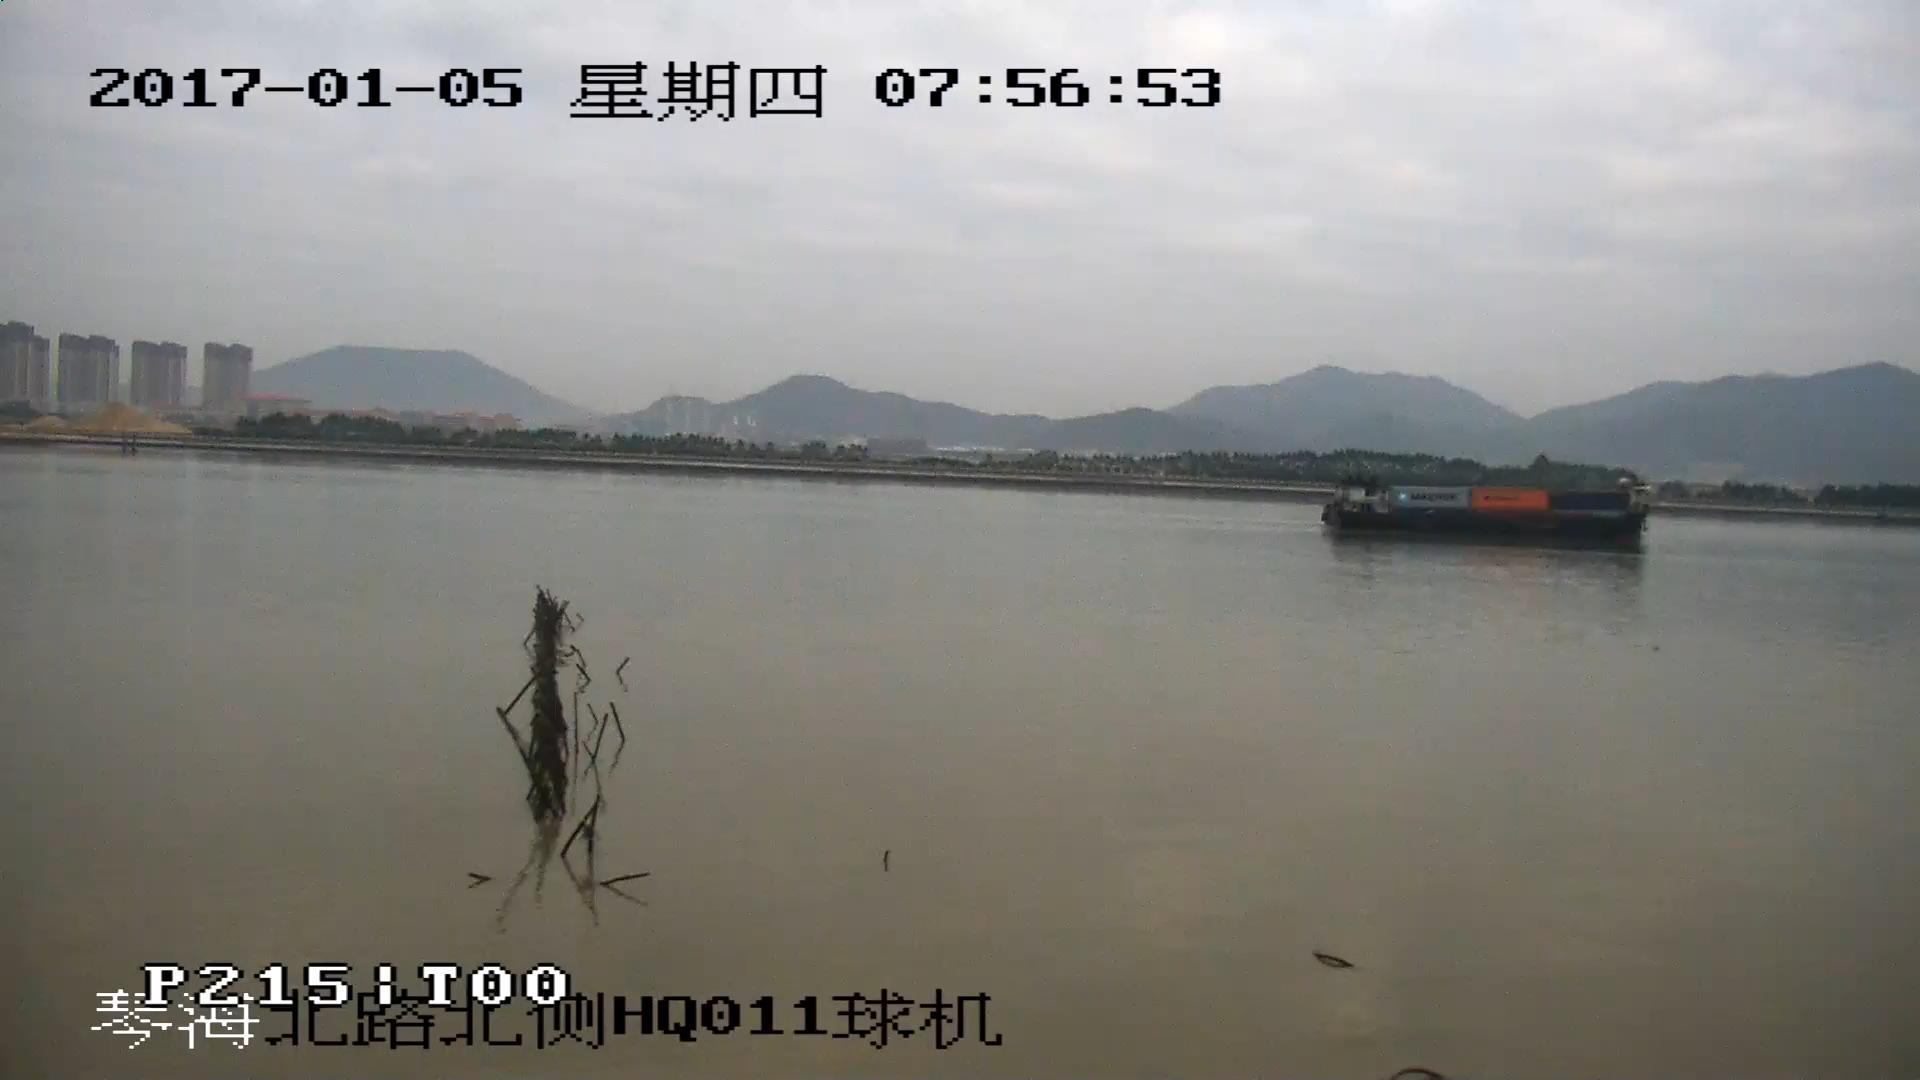container ship: (1319, 482, 1651, 547)
